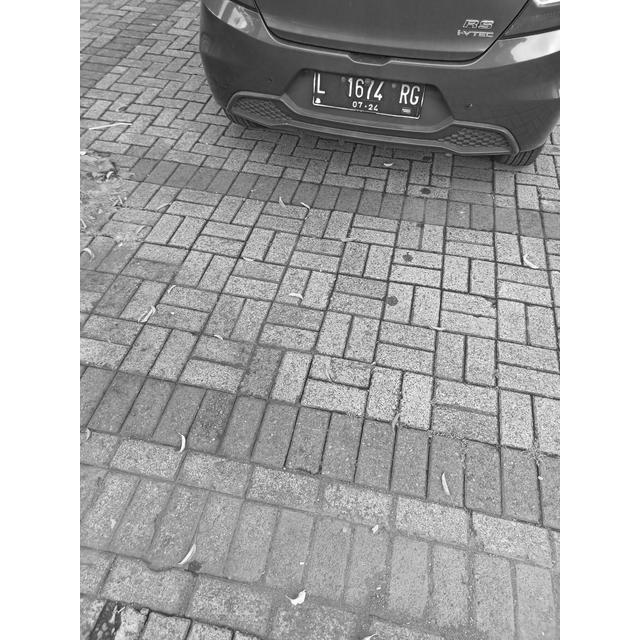license: (315, 69, 426, 112)
